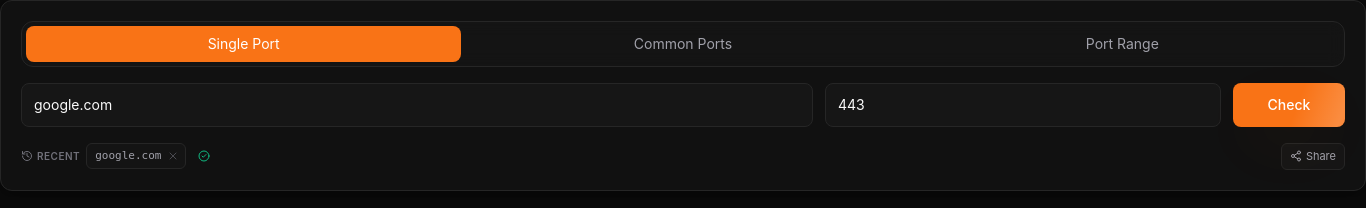
Test: PortCheckerClient › renders the port-range fields when range mode is selected
Click the button "Port range".
click(1122, 44)  # box [905,26,1340,62]
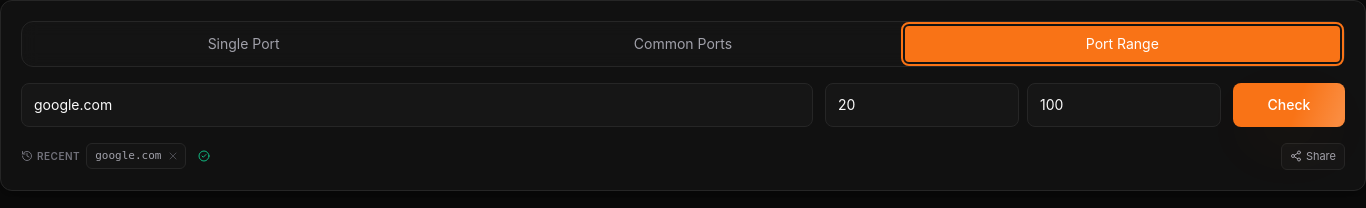
Now the number of number fields is 2, box [825,83,1019,127]; [1027,83,1221,127]
Now the 1st number field holds "20", box [825,83,1019,127]
Now the 2nd number field holds "100", box [1027,83,1221,127]
